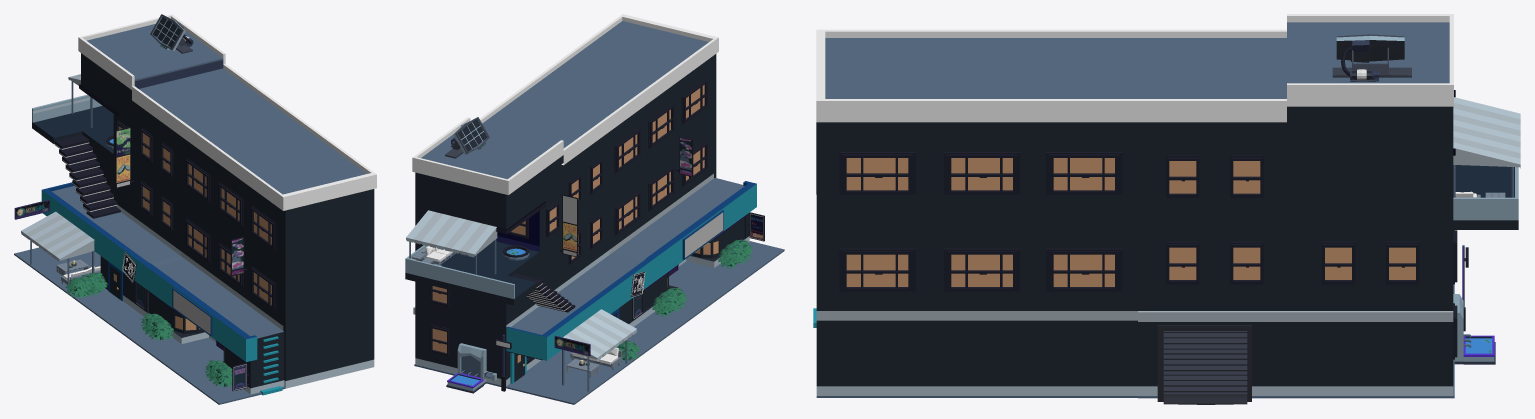
Rendered from MoonbeansCafe.fbx.
3 views of the same model, side by side, from view 1: azimuth 30°, elevation 25°; view 2: azimuth 150°, elevation 25°; view 3: azimuth 270°, elevation 25° (orthographic). The views are drawn at different scales.
Parts seen in each view (by area): view 1: Cube.551, Cube.558, Cube.1120, Cube.1097, Cube.561, Solar Panel.004, Cube.1119, Cube.1124, Cylinder.263, Cylinder.037, Cylinder.038, Cube.512 (+3 smaller); view 2: Cube.551, Cube.558, Cube.1120, Cube.1114, Cube.561, Cube.1116, Solar Panel.004, Cube.1119, Cube.1124, Cube.1097, Cylinder.038, Cylinder.037 (+6 smaller); view 3: Cube.551, Cube.558, Cube.1114, Solar Panel.004, Cube.1116.
Boxes of the visible parts, x1=… form: Cube.551: x1=68, y1=64, x2=376, y2=404; Cube.558: x1=14, y1=14, x2=225, y2=293; Cube.1120: x1=185, y1=157, x2=276, y2=310; Cube.1097: x1=55, y1=134, x2=120, y2=218; Cube.561: x1=21, y1=211, x2=94, y2=291; Solar Panel.004: x1=150, y1=14, x2=193, y2=53; Cube.1119: x1=115, y1=127, x2=133, y2=188; Cube.1124: x1=172, y1=288, x2=212, y2=336; Cylinder.263: x1=65, y1=272, x2=107, y2=298; Cylinder.037: x1=140, y1=313, x2=173, y2=339; Cylinder.038: x1=204, y1=360, x2=232, y2=386; Cube.512: x1=230, y1=237, x2=247, y2=276; Cube.551: x1=480, y1=14, x2=784, y2=363; Cube.558: x1=405, y1=117, x2=629, y2=404; Cube.1120: x1=614, y1=78, x2=707, y2=235; Cube.1114: x1=406, y1=210, x2=497, y2=274; Cube.561: x1=562, y1=309, x2=636, y2=391; Cube.1116: x1=446, y1=343, x2=496, y2=393; Solar Panel.004: x1=445, y1=117, x2=489, y2=158; Cube.1119: x1=559, y1=194, x2=578, y2=257; Cube.1124: x1=682, y1=210, x2=723, y2=259; Cube.1097: x1=511, y1=273, x2=575, y2=312; Cylinder.038: x1=718, y1=239, x2=752, y2=268; Cylinder.037: x1=652, y1=288, x2=686, y2=317; Cube.551: x1=816, y1=29, x2=1286, y2=404; Cube.558: x1=1287, y1=14, x2=1518, y2=398; Cube.1114: x1=1453, y1=97, x2=1520, y2=197; Solar Panel.004: x1=1332, y1=34, x2=1411, y2=81; Cube.1116: x1=1453, y1=294, x2=1495, y2=364.
Bounding box in the file's own units: 884 × 1136 × 2083.
